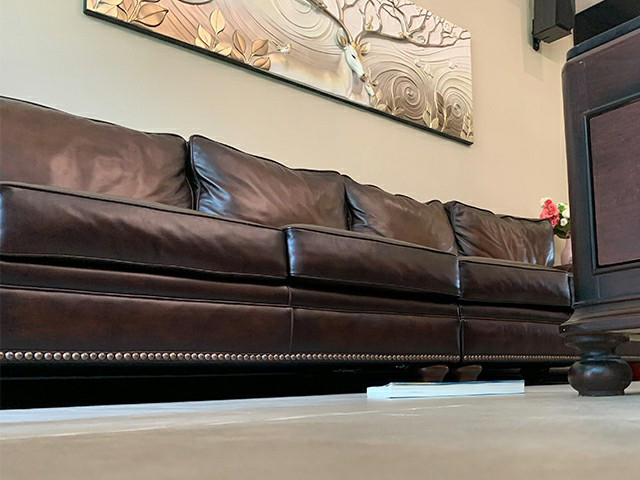book: (365, 380, 526, 399)
sofa: (1, 96, 576, 388)
table: (559, 1, 640, 400)
